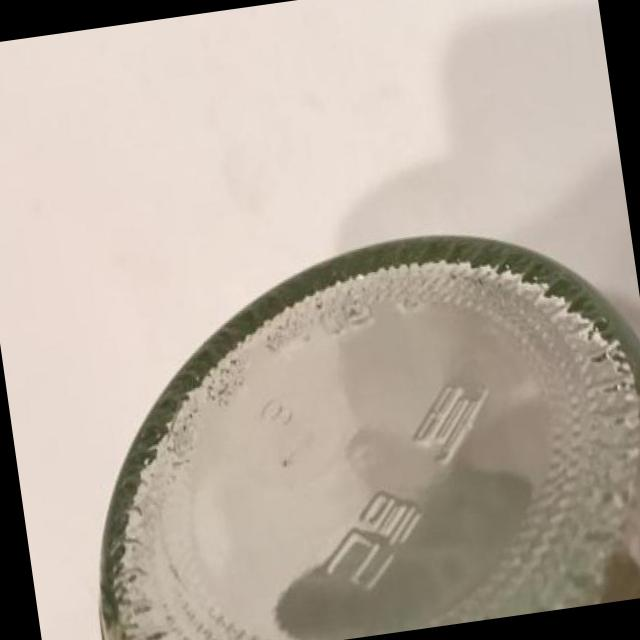BotolKaca: (50, 204, 640, 640)
